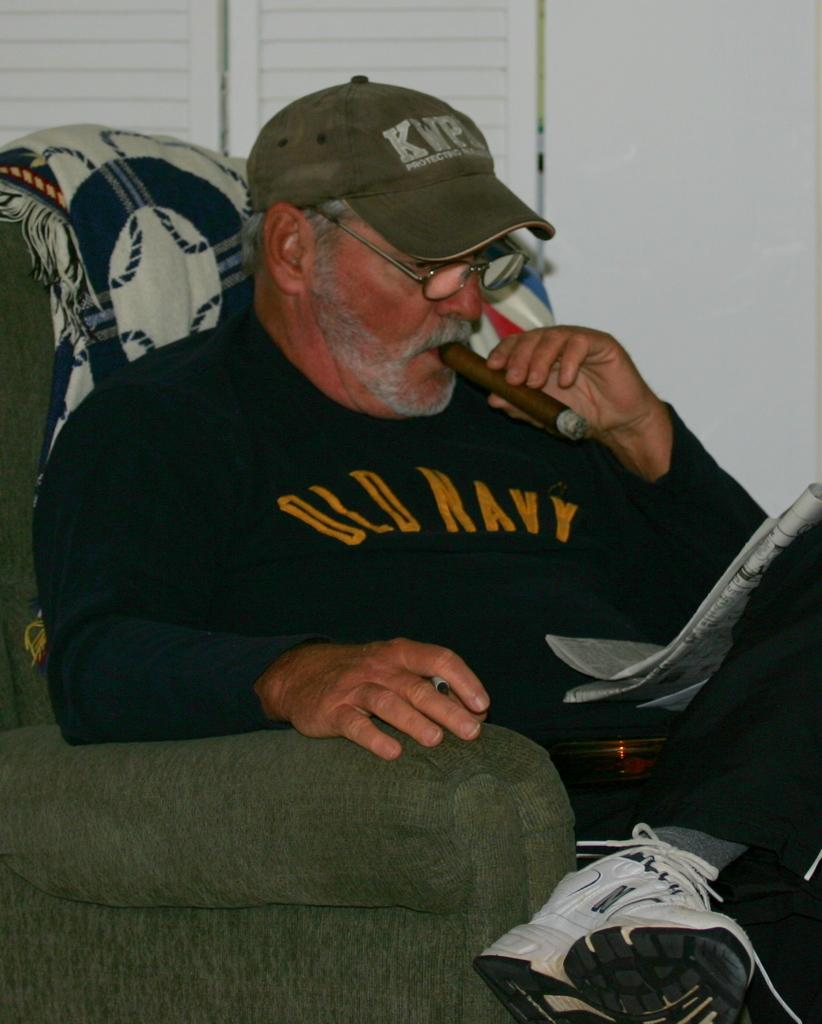Hat: (247, 76, 555, 264)
